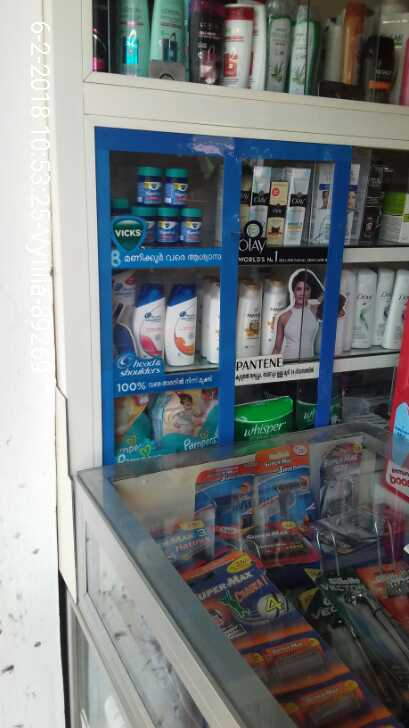vicks: (130, 157, 204, 247)
